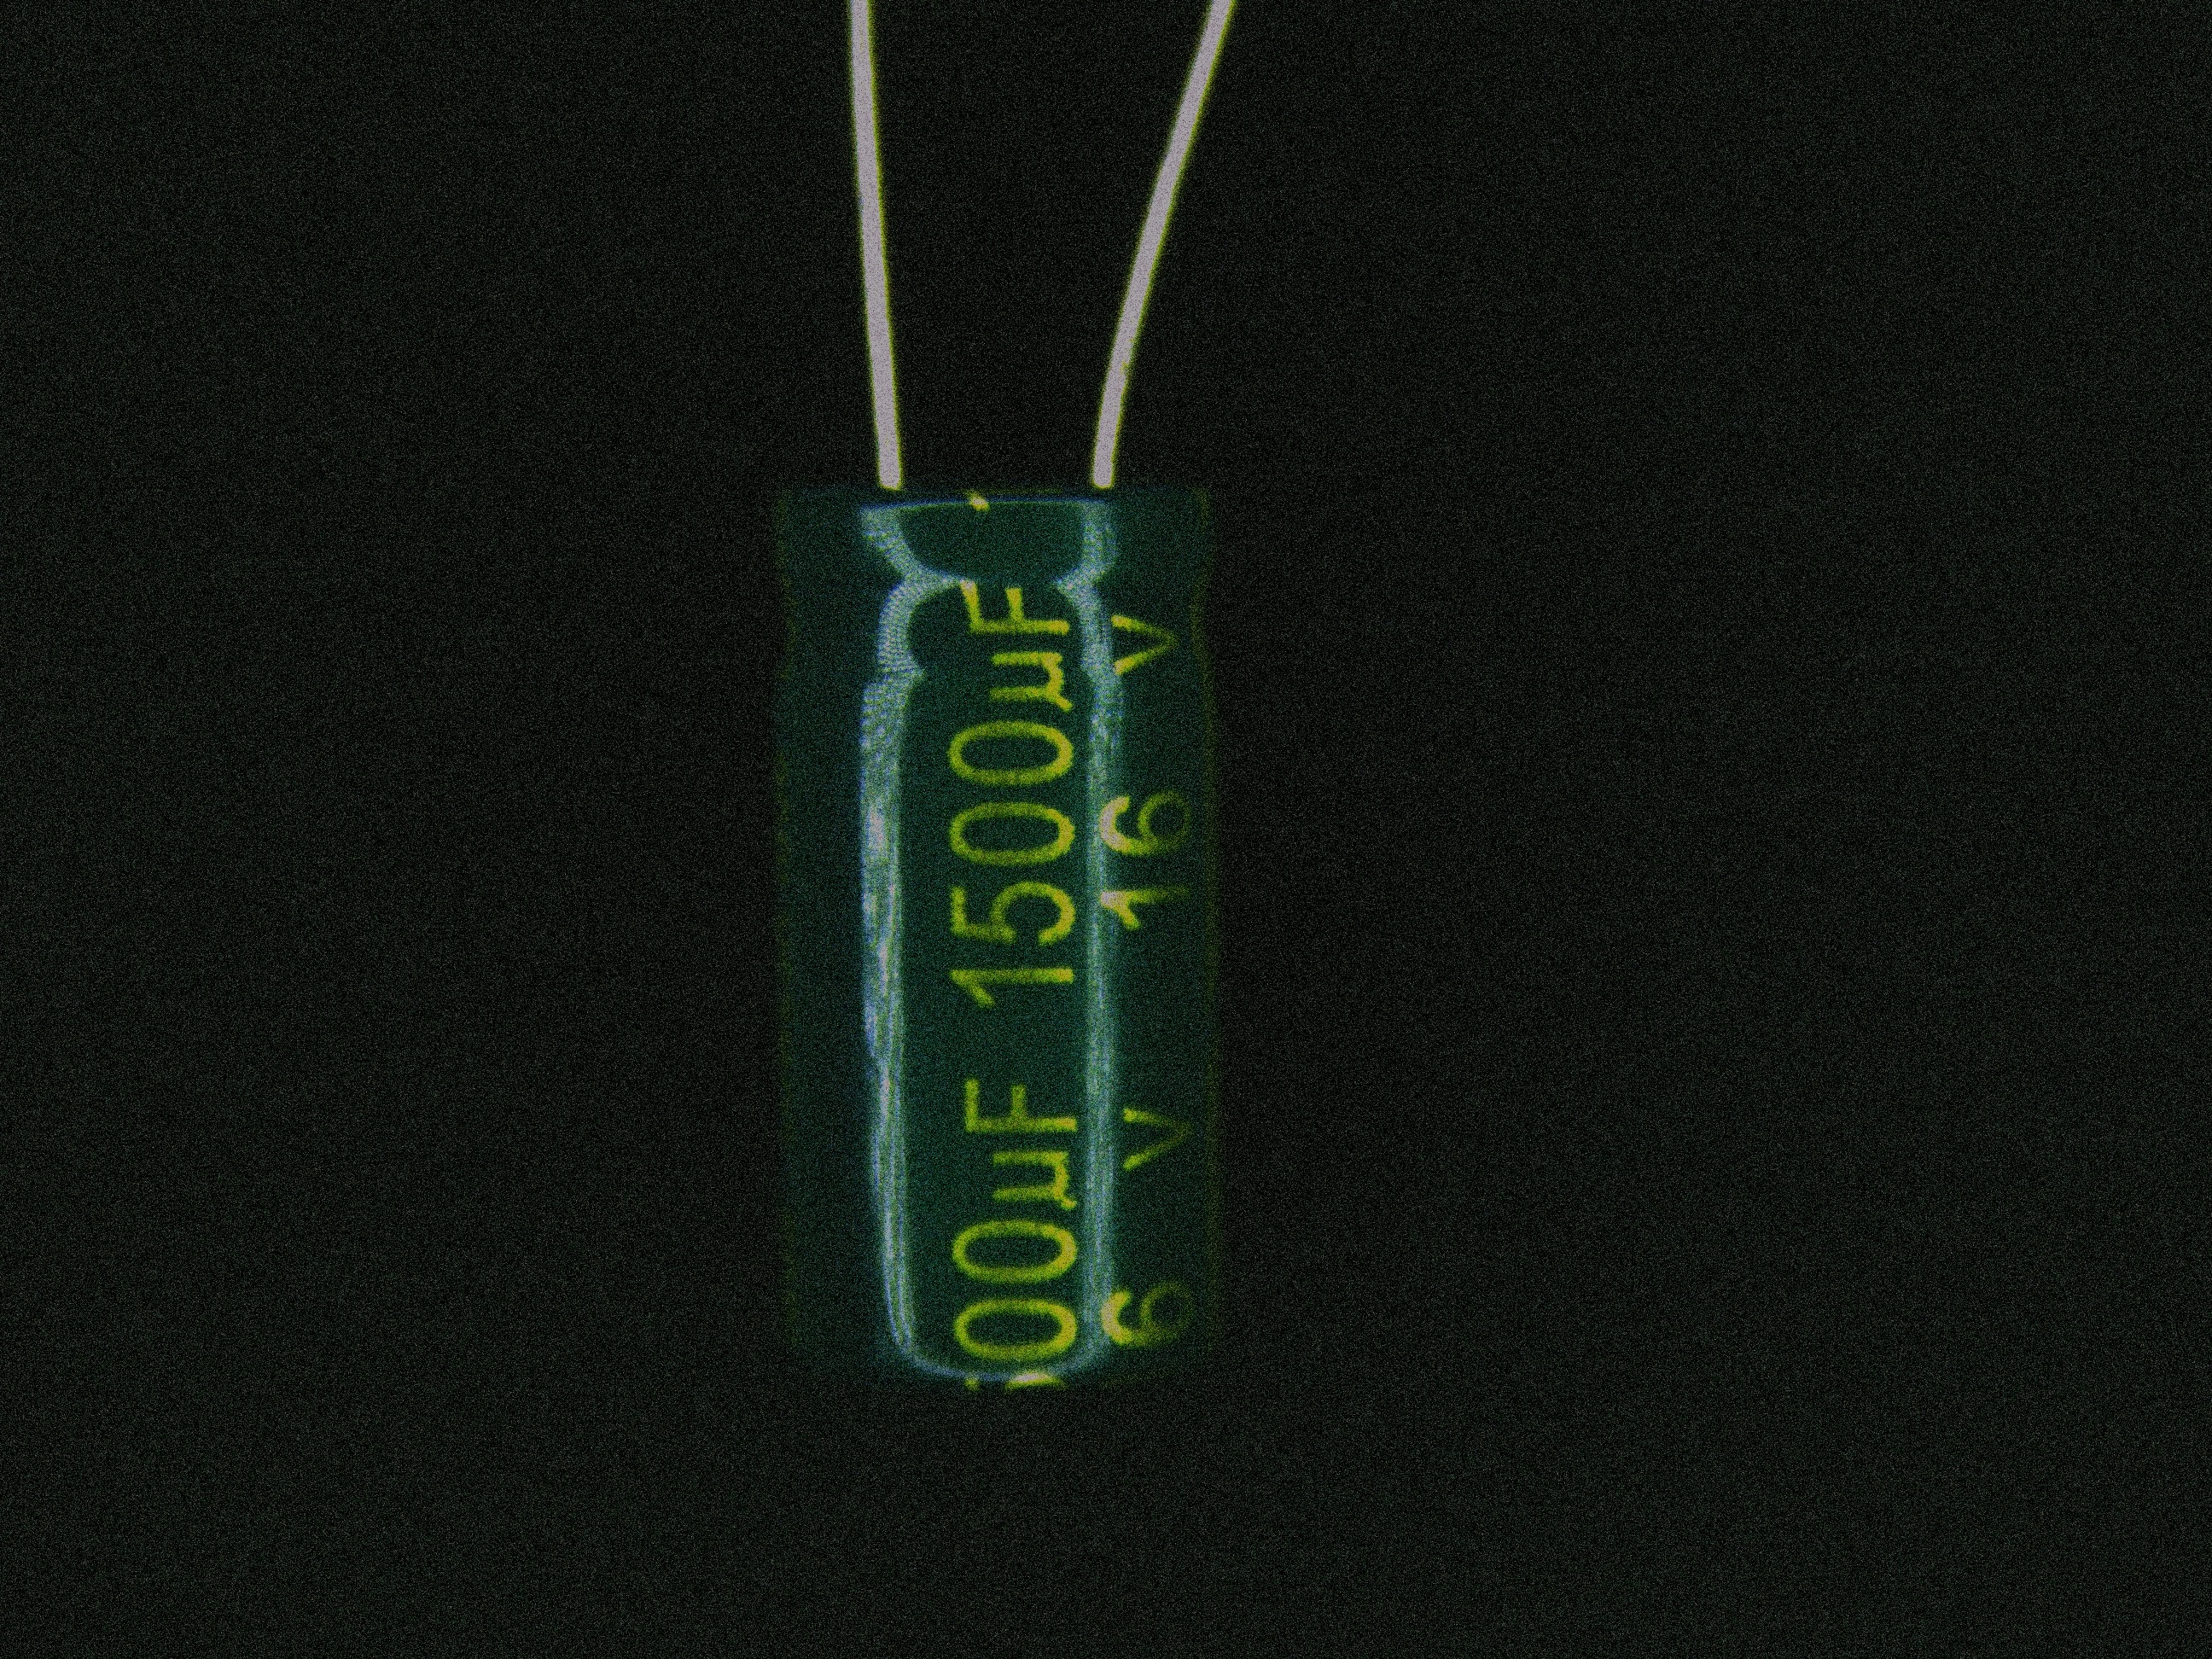c1: (759, 349, 1235, 1401)
